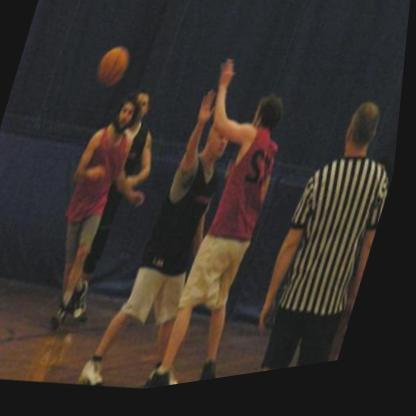basketball: (94, 41, 138, 97)
